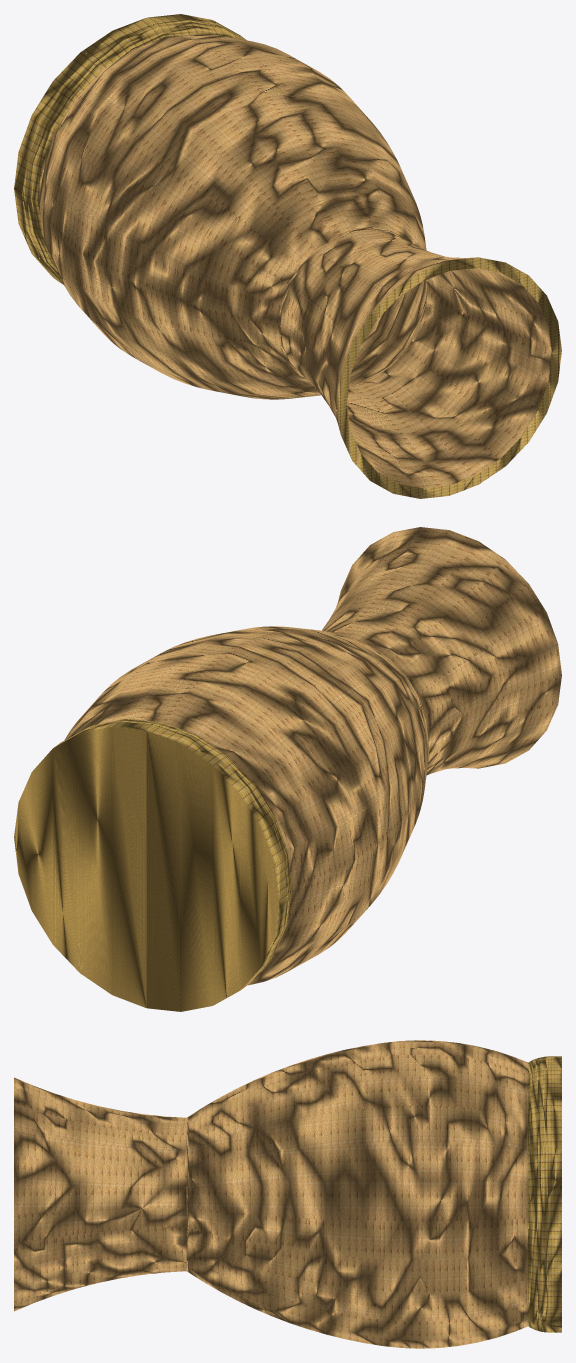
Rendered from model_align.obj.
The picture shows the model from 3 angles, top to bottom: view 1: azimuth 30°, elevation 25°; view 2: azimuth 150°, elevation 25°; view 3: azimuth 270°, elevation 25°; orthographic projection. The views are drawn at different scales.
Bounding box in the file's own units: 0.0939 × 0.0939 × 0.1662.
Materials: 3 (3 with a texture image).
